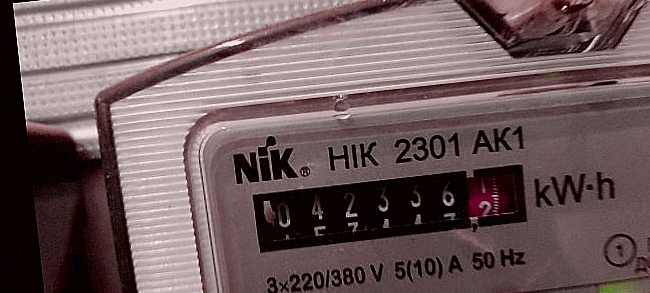0: (273, 199, 291, 229)
1: (474, 171, 488, 195)
2: (340, 188, 359, 218), (474, 197, 492, 217)
3: (403, 178, 422, 209), (371, 183, 389, 213)
4: (306, 190, 326, 221)
6: (437, 176, 457, 208)
screen: (238, 149, 541, 262)
